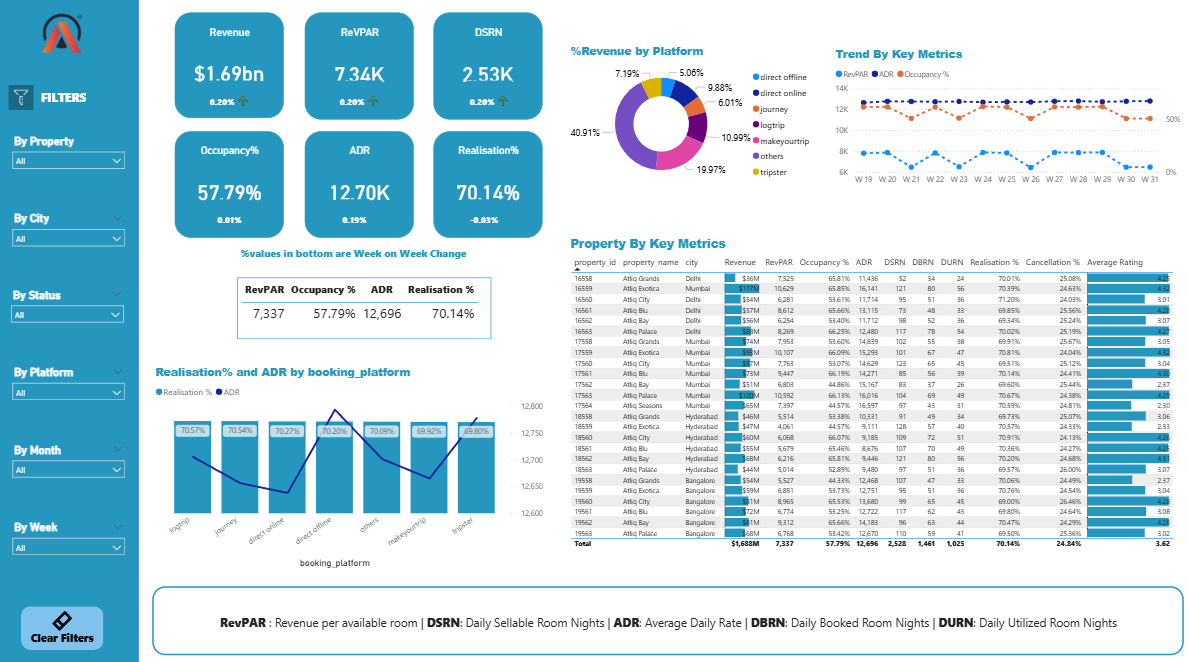

The dashboard page shown, as its layout file describes it:
{"tool":"powerbi","page":{"name":"Report","canvas":[1920,1080],"ordinal":0},"visuals":[{"type":"card","title":"Realisation%","fields":{"Values":["Key_measures.Realisation %"]},"box":[700,217.1,174.3,170],"z":0},{"type":"card","title":"ADR","fields":{"Values":["Key_measures.ADR"]},"box":[494.3,217.1,174.3,170],"z":1000},{"type":"card","title":"Occupancy%","fields":{"Values":["Key_measures.Occupancy %"]},"box":[285.7,217.1,174.3,170],"z":2000},{"type":"card","title":"DSRN","fields":{"Values":["Key_measures.DSRN"]},"box":[700,28.6,174.3,171.4],"z":3000},{"type":"card","title":"ReVPAR","fields":{"Values":["Key_measures.RevPAR"]},"box":[494.3,27.1,174.3,171.4],"z":4000},{"type":"shape","box":[0,0,228,1080],"z":5000},{"type":"slicer","fields":{"Values":["dim_hotels.property_name"]},"box":[15,217.5,200,110],"z":6000},{"type":"slicer","fields":{"Values":["dim_hotels.city"]},"box":[15,341,200,110],"z":7000},{"type":"slicer","fields":{"Values":["fact_bookings.booking_status"]},"box":[13.3,464.5,200,110],"z":8000},{"type":"slicer","fields":{"Values":["dim_date.mmm yy"]},"box":[15,711.5,200,110],"z":9000},{"type":"slicer","fields":{"Values":["dim_date.week no"]},"box":[15,835,200,110],"z":10000},{"type":"lineStackedColumnComboChart","title":"Realisation% and ADR by booking_platform","fields":{"Y":["Key_measures.Realisation %"],"Category":["fact_bookings.booking_platform"],"Y2":["Key_measures.ADR"]},"box":[250,590,630,332],"z":11000},{"type":"lineChart","title":"Trend By Key Metrics","fields":{"Category":["dim_date.week no"],"Y2":["Key_measures.Occupancy %"],"Y":["Key_measures.RevPAR","Key_measures.ADR"]},"box":[1338,82,562,232],"z":12000},{"type":"image","box":[66,24,80,74],"z":13000},{"type":"tableEx","fields":{"Values":["Key_measures.RevPAR","Key_measures.Occupancy %","Key_measures.ADR","Key_measures.Realisation %"]},"box":[386,452,406,98],"z":14000},{"type":"tableEx","fields":{"Values":["Key_measures.Revenue WoW change %"]},"box":[317.5,113.8,96.2,60],"z":15000},{"type":"shape","box":[71.2,137.5,90,52.5],"z":16000},{"type":"slicer","fields":{"Values":["fact_bookings.booking_platform"]},"box":[15,588,200,110],"z":17000},{"type":"image","box":[20,143.3,40,40],"z":18000},{"type":"tableEx","fields":{"Values":["Key_measures.Revenue WoW change %"]},"box":[538.6,132.9,105.7,70],"z":19000},{"type":"tableEx","fields":{"Values":["Key_measures.Occupancy WoW change %"]},"box":[341.4,321.4,95.7,60],"z":20000},{"type":"tableEx","fields":{"Values":["Key_measures.ADR Wow% Chg"]},"box":[542.9,321.4,95.7,60],"z":21000},{"type":"tableEx","fields":{"Values":["Key_measures.Realisation Wow% Chg"]},"box":[745.7,314.3,95.7,74.3],"z":22000},{"type":"textbox","box":[380,396,384,42],"z":23000},{"type":"shape","box":[250,946.7,1650,110],"z":24000},{"type":"textbox","box":[266,968,1620,68],"z":25000},{"type":"actionButton","box":[40,978,132,70],"z":26000},{"type":"tableEx","fields":{"Values":["Key_measures.Revenue WoW change %"]},"box":[745.7,132.9,102.9,70],"z":27000},{"type":"card","title":"Revenue","fields":{"Values":["Key_measures.Revenue"]},"box":[285.7,27.1,174.3,168.6],"z":28000},{"type":"donutChart","title":"%Revenue by Platform ","fields":{"Y":["Key_measures.Revenue"],"Series":["fact_bookings.booking_platform"]},"box":[914,76,402,236],"z":30000},{"type":"tableEx","fields":{"Values":["Key_measures.Revenue WoW change %"]},"box":[330,132.9,87.1,57.1],"z":32000},{"type":"tableEx","title":"Property By Key Metrics","fields":{"Values":["dim_hotels.property_id","dim_hotels.property_name","dim_hotels.city","key_measures.Revenue","key_measures.RevPAR","key_measures.Occupancy %","key_measures.ADR","key_measures.DSRN","key_measures.DBRN","key_measures.DURN","key_measures.Realisation %","key_measures.Cancellation %"]},"box":[914,384,978,538],"z":33000}]}

Visuals, with their boxes in screenshot pixels (x1, y1, x2, y2), scaled from the page's 1920x1080 canvas onto the 1189x662 screenshot:
"Realisation%" card: detection(433, 133, 541, 237)
"ADR" card: detection(306, 133, 414, 237)
"Occupancy%" card: detection(177, 133, 285, 237)
"DSRN" card: detection(433, 18, 541, 123)
"ReVPAR" card: detection(306, 17, 414, 122)
shape: detection(0, 0, 141, 661)
slicer - dim_hotels.property_name: detection(9, 133, 133, 201)
slicer - dim_hotels.city: detection(9, 209, 133, 276)
slicer - fact_bookings.booking_status: detection(8, 285, 132, 352)
slicer - dim_date.mmm yy: detection(9, 436, 133, 504)
slicer - dim_date.week no: detection(9, 512, 133, 579)
"Realisation% and ADR by booking_platform" lineStackedColumnComboChart: detection(155, 362, 545, 565)
"Trend By Key Metrics" lineChart: detection(829, 50, 1177, 192)
image: detection(41, 15, 90, 60)
tableEx - Key_measures.RevPAR x Key_measures.Occupancy %: detection(239, 277, 490, 337)
tableEx - Key_measures.Revenue WoW change %: detection(197, 70, 256, 107)
shape: detection(44, 84, 100, 116)
slicer - fact_bookings.booking_platform: detection(9, 360, 133, 428)
image: detection(12, 88, 37, 112)
tableEx - Key_measures.Revenue WoW change %: detection(334, 81, 399, 124)
tableEx - Key_measures.Occupancy WoW change %: detection(211, 197, 271, 234)
tableEx - Key_measures.ADR Wow% Chg: detection(336, 197, 395, 234)
tableEx - Key_measures.Realisation Wow% Chg: detection(462, 193, 521, 238)
textbox: detection(235, 243, 473, 268)
shape: detection(155, 580, 1177, 648)
textbox: detection(165, 593, 1168, 635)
actionButton: detection(25, 599, 107, 642)
tableEx - Key_measures.Revenue WoW change %: detection(462, 81, 526, 124)
"Revenue" card: detection(177, 17, 285, 120)
"%Revenue by Platform " donutChart: detection(566, 47, 815, 191)
tableEx - Key_measures.Revenue WoW change %: detection(204, 81, 258, 116)
"Property By Key Metrics" tableEx: detection(566, 235, 1172, 565)
